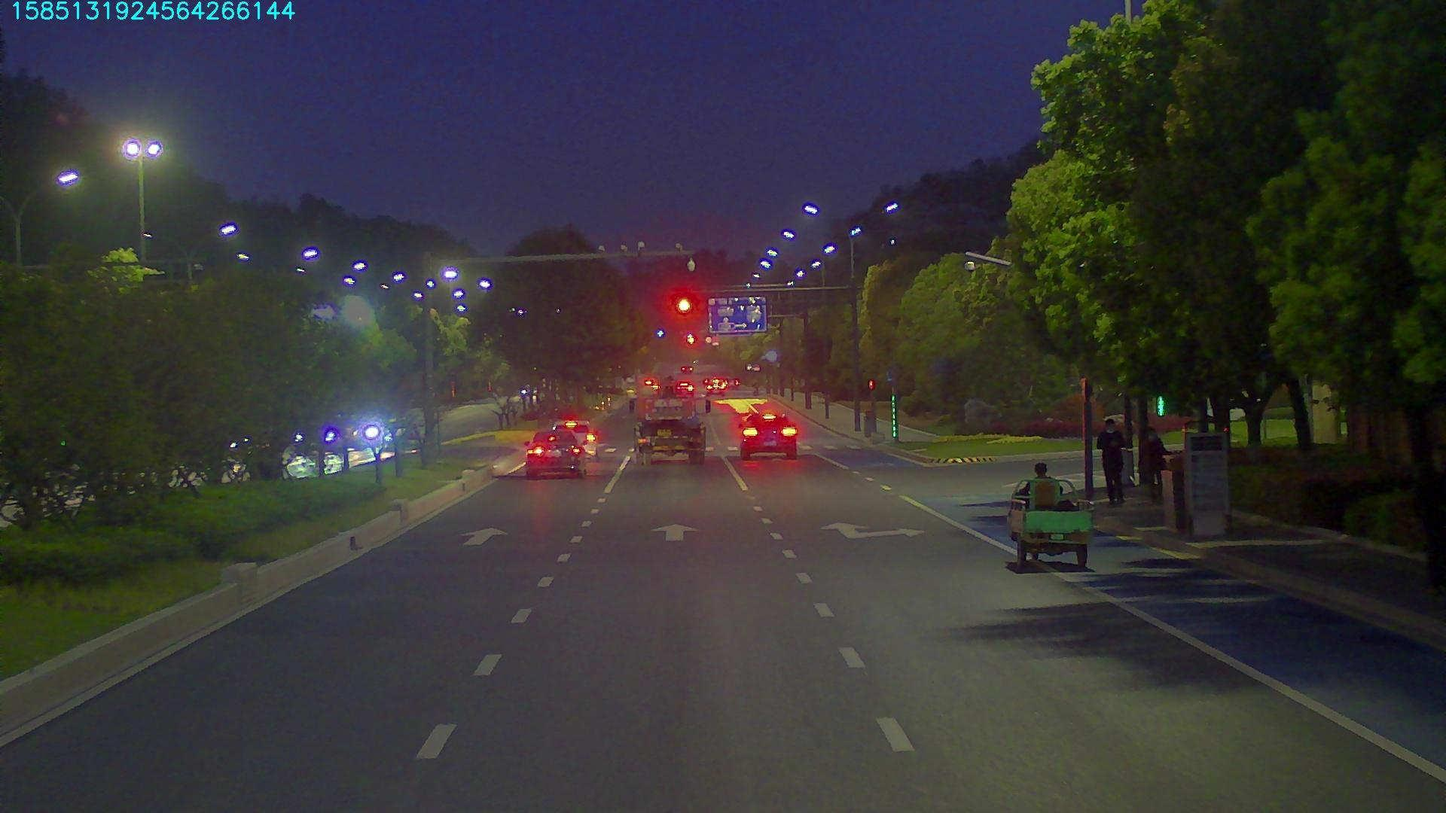red: (676, 288, 700, 318)
